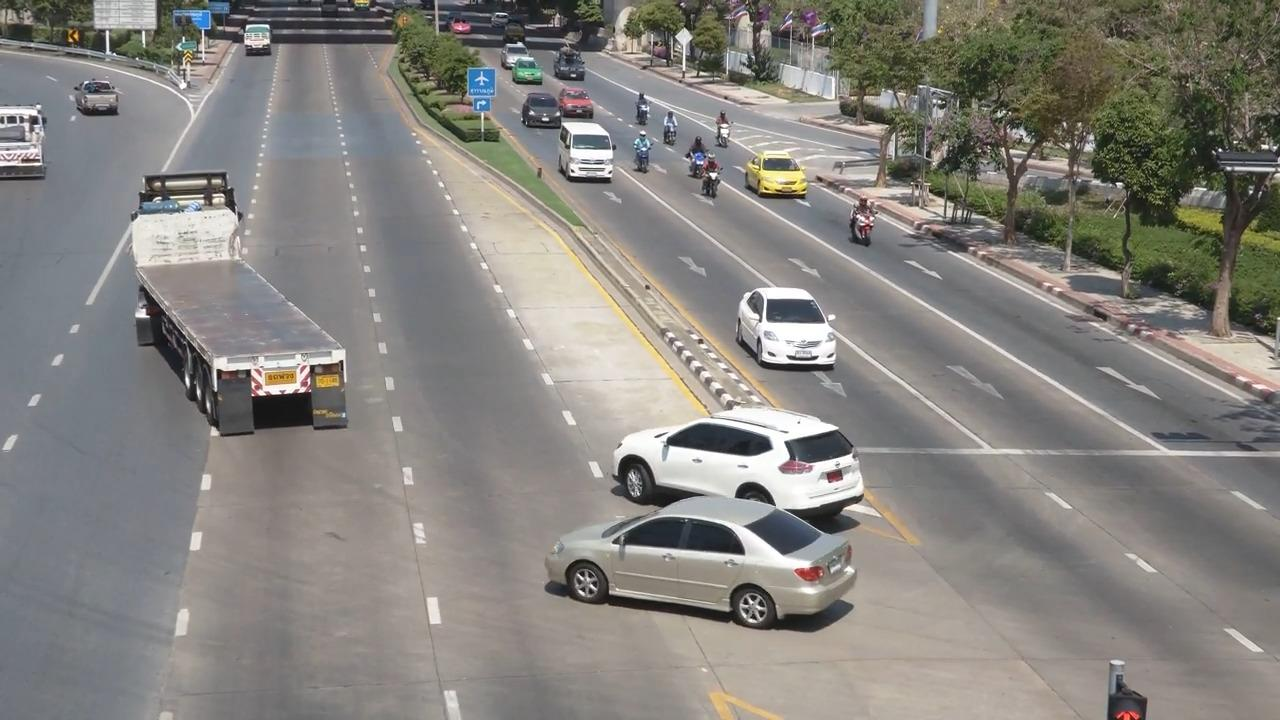CAR: (538, 491, 866, 637), (599, 385, 881, 512), (724, 272, 852, 389), (0, 94, 62, 206), (740, 143, 812, 206), (62, 68, 127, 128), (557, 118, 616, 184), (228, 8, 282, 67), (553, 43, 594, 85), (516, 93, 565, 125), (510, 54, 552, 89), (557, 86, 605, 115)
HGV_BUS: (113, 160, 368, 439)
MOTOR: (836, 195, 881, 254), (630, 85, 657, 132), (693, 154, 721, 197), (658, 106, 683, 150), (633, 130, 652, 170), (715, 111, 738, 144)
